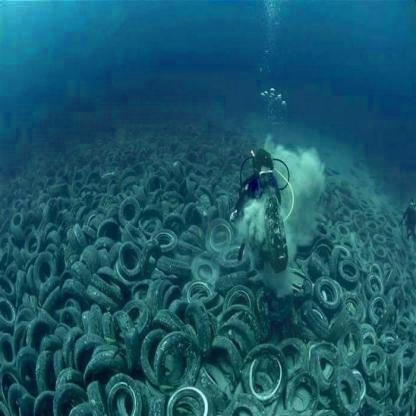tire: (1, 269, 299, 416), (0, 126, 242, 274), (299, 173, 416, 416)
